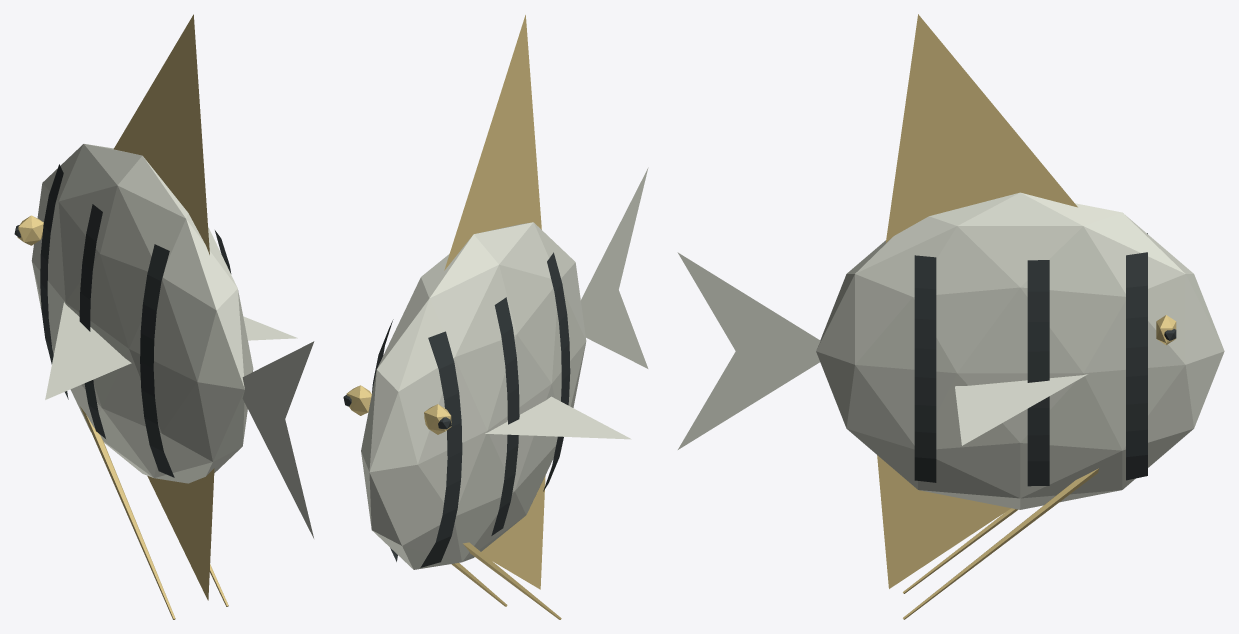
Rendered from Angelfish.fbx.
3 renders of one model, left to right at view 1: azimuth 30°, elevation 25°; view 2: azimuth 150°, elevation 25°; view 3: azimuth 270°, elevation 25°, orthographic.
Parts seen in each view (by area): view 1: Body, TallDorsal, TailFin, TallAnal, Pectoral1, Stripe1_2, Stripe1_1, Stripe1_0, VentralThread1, Pectoral-1, Eye1; view 2: Body, TallDorsal, TailFin, Stripe1_0, TallAnal, Pectoral1, Stripe1_1, Stripe1_2, VentralThread1, Eye-1, Eye1; view 3: Body, TallDorsal, TailFin, TallAnal, Stripe-1_2, Stripe-1_0, Stripe-1_1, Pectoral-1, VentralThread-1.
Boxes of the visible parts, <box> form: Body: <box>31,144,253,483</box>; TallDorsal: <box>114,14,209,254</box>; TailFin: <box>242,341,314,538</box>; TallAnal: <box>147,468,214,600</box>; Pectoral1: <box>45,302,131,399</box>; Stripe1_2: <box>140,244,174,477</box>; Stripe1_1: <box>79,204,105,438</box>; Stripe1_0: <box>40,164,68,399</box>; VentralThread1: <box>80,406,175,619</box>; Pectoral-1: <box>243,316,297,340</box>; Eye1: <box>17,215,43,245</box>; Body: <box>361,222,586,569</box>; TallDorsal: <box>444,15,541,270</box>; TailFin: <box>581,167,648,368</box>; Stripe1_0: <box>420,331,462,567</box>; TallAnal: <box>481,475,545,589</box>; Pectoral1: <box>485,396,631,439</box>; Stripe1_1: <box>491,297,519,535</box>; Stripe1_2: <box>543,252,570,491</box>; VentralThread1: <box>463,542,561,619</box>; Eye-1: <box>346,385,371,415</box>; Eye1: <box>424,404,451,434</box>; Body: <box>816,192,1224,509</box>; TallDorsal: <box>886,14,1077,242</box>; TailFin: <box>677,252,820,449</box>; TallAnal: <box>877,455,1010,588</box>; Stripe-1_2: <box>914,255,936,482</box>; Stripe-1_0: <box>1126,252,1147,480</box>; Stripe-1_1: <box>1027,260,1049,486</box>; Pectoral-1: <box>955,374,1087,445</box>; VentralThread-1: <box>903,468,1099,619</box>.
Bounding box in the file's own units: 0.4 × 0.8964 × 0.75.
